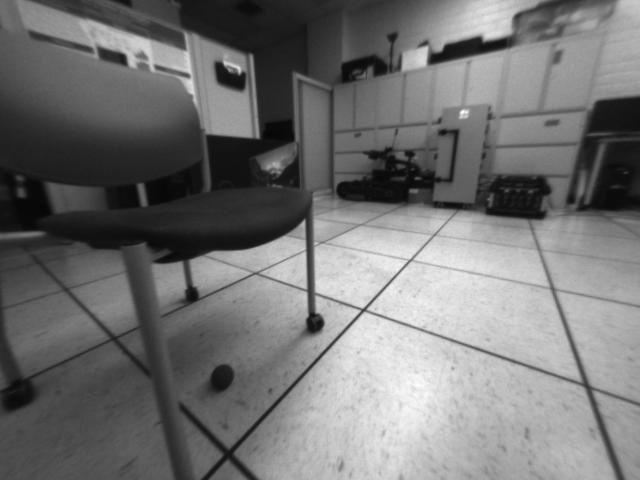dogtoy: (204, 358, 244, 395)
